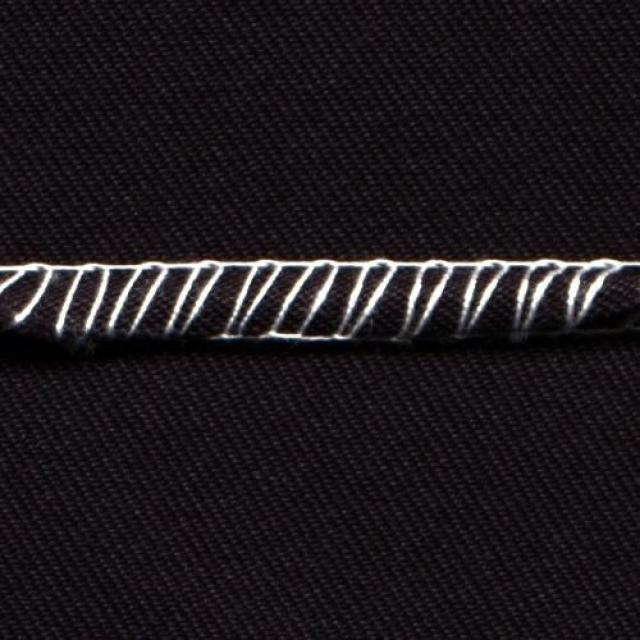gray stitch: (1, 248, 636, 357)
